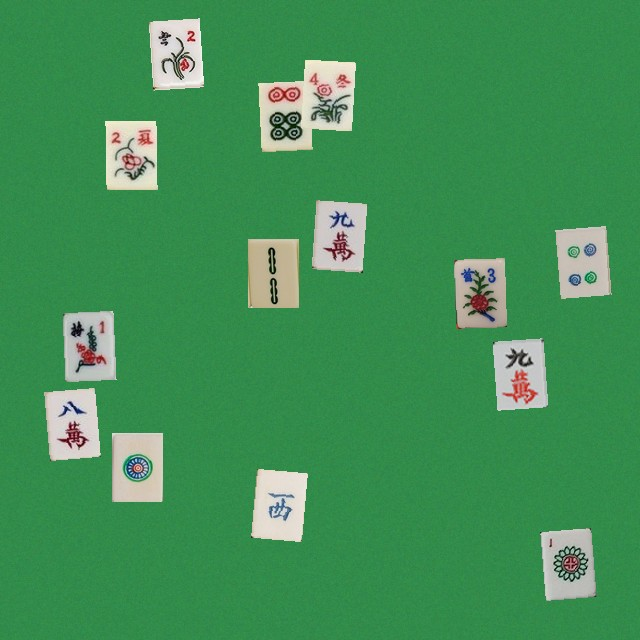tile: (62, 310, 113, 379), (492, 338, 543, 407), (247, 238, 298, 307), (258, 80, 309, 149), (540, 528, 591, 597), (44, 387, 95, 456), (105, 120, 156, 189), (301, 59, 352, 128), (453, 258, 504, 327), (251, 468, 302, 537), (555, 226, 606, 295), (111, 432, 162, 501), (148, 18, 199, 87), (311, 200, 362, 269)
